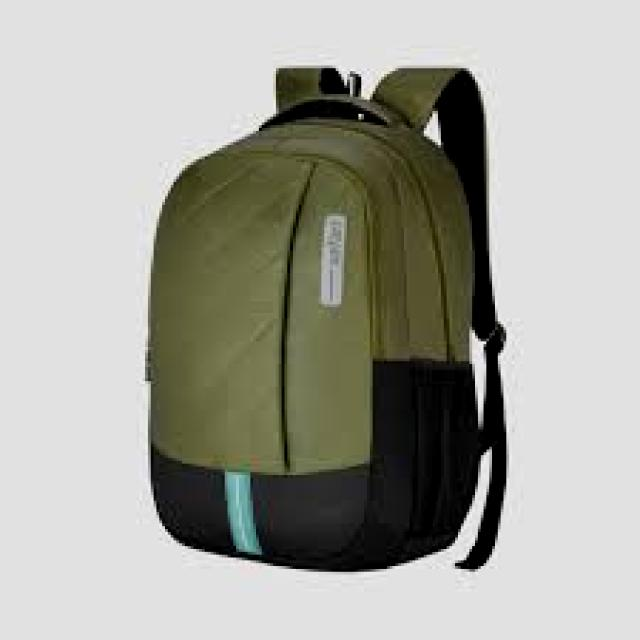backpack: (143, 64, 510, 573)
